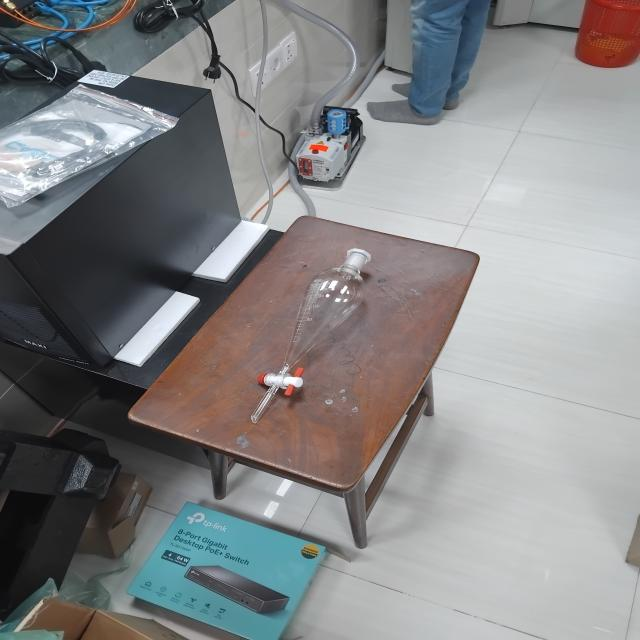Separating_Funnel: (227, 232, 397, 436)
